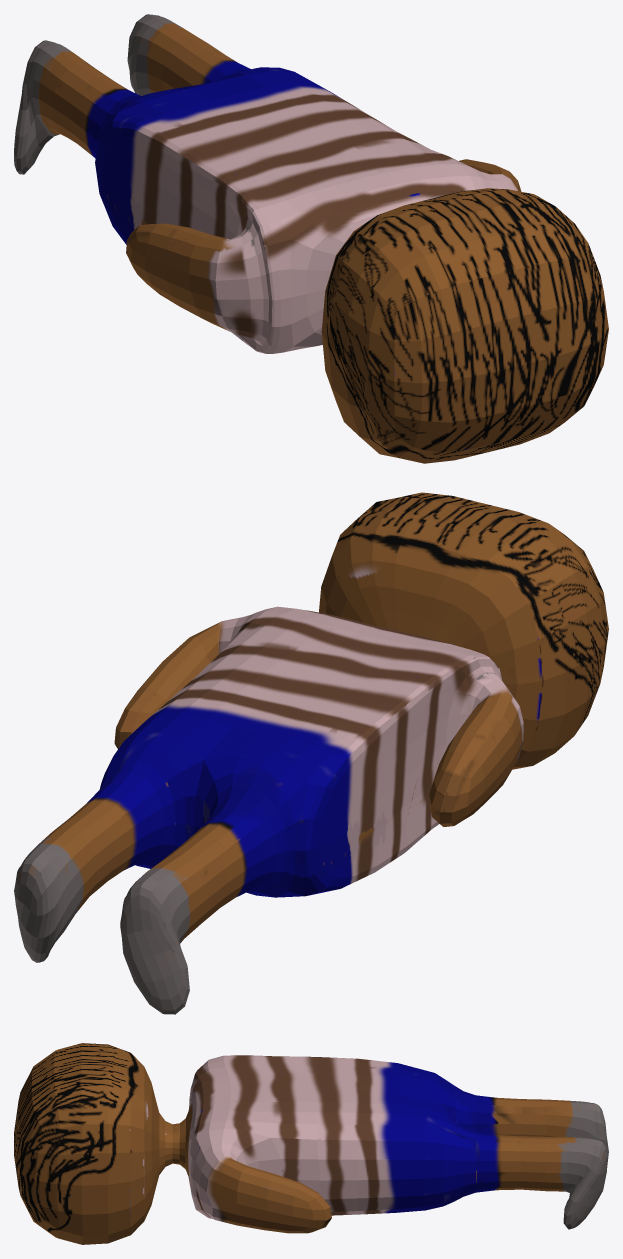
Rendered from antman_stand_6.obj.
3 views of the same model, one above another, from view 1: azimuth 30°, elevation 25°; view 2: azimuth 150°, elevation 25°; view 3: azimuth 270°, elevation 25° (orthographic). The views are drawn at different scales.
Visible parts, largest first — view 1: Cube; view 2: Cube; view 3: Cube.
Boxes of the visible parts, x1=… form: Cube: x1=14, y1=14, x2=608, y2=463; Cube: x1=14, y1=492, x2=608, y2=1014; Cube: x1=14, y1=1043, x2=608, y2=1244.
Size of the model in its own units: 0.8996 by 0.5834 by 1.93.
